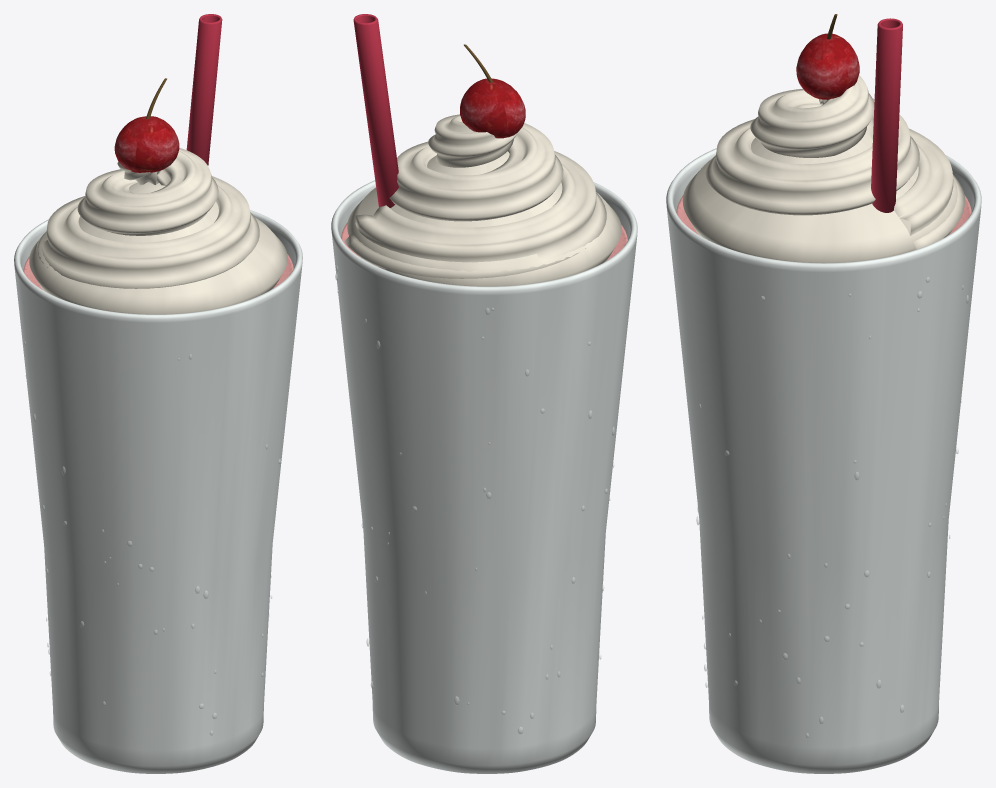
File: milkshake.glb
The picture shows the model from 3 angles, left to right: view 1: azimuth 30°, elevation 25°; view 2: azimuth 150°, elevation 25°; view 3: azimuth 270°, elevation 25°; orthographic projection. The views are drawn at different scales.
Visible parts, largest first — view 1: Copo_de_vidro_de_fundo_pesado, Base_de_chantilly, Canudo_de_papel, Cereja, Condensação_no_vidro_frio; view 2: Copo_de_vidro_de_fundo_pesado, Base_de_chantilly, Canudo_de_papel, Cereja, Condensação_no_vidro_frio; view 3: Copo_de_vidro_de_fundo_pesado, Base_de_chantilly, Canudo_de_papel, Cereja, Condensação_no_vidro_frio.
Part boxes in pixels (<box>): Copo_de_vidro_de_fundo_pesado: <box>14,210,302,773</box>; Base_de_chantilly: <box>29,148,287,314</box>; Canudo_de_papel: <box>186,14,222,165</box>; Cereja: <box>114,116,179,172</box>; Condensação_no_vidro_frio: <box>24,341,280,735</box>; Copo_de_vidro_de_fundo_pesado: <box>331,180,637,773</box>; Base_de_chantilly: <box>344,114,621,286</box>; Canudo_de_papel: <box>353,14,398,207</box>; Cereja: <box>460,78,525,138</box>; Condensação_no_vidro_frio: <box>335,266,614,734</box>; Copo_de_vidro_de_fundo_pesado: <box>666,148,981,773</box>; Base_de_chantilly: <box>682,75,965,263</box>; Canudo_de_papel: <box>871,18,902,212</box>; Cereja: <box>796,33,859,99</box>; Condensação_no_vidro_frio: <box>696,277,968,737</box>.
Size of the model in its own units: 0.082 by 0.21 by 0.08.
Materials: 7 (2 with a texture image).
